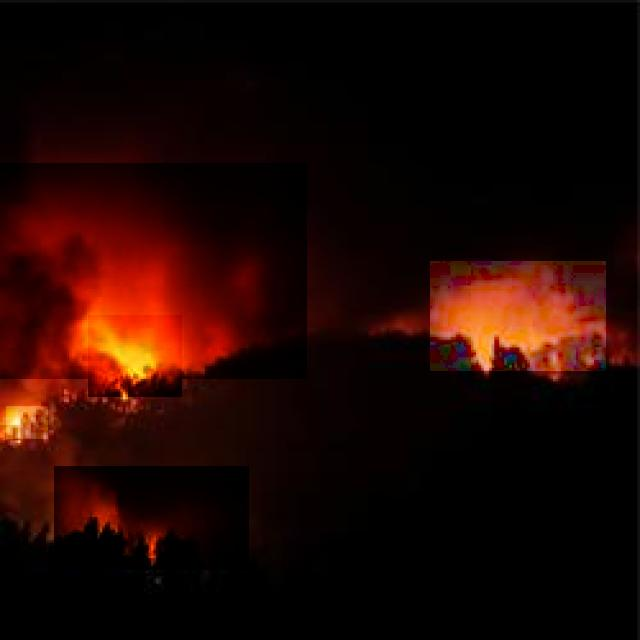Fire: (88, 315, 182, 397), (6, 406, 48, 439)
Smoke: (0, 163, 307, 379), (54, 466, 249, 570), (430, 262, 606, 372)
